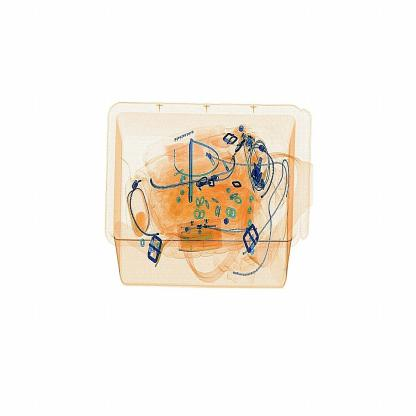pliers: (181, 129, 201, 209)
